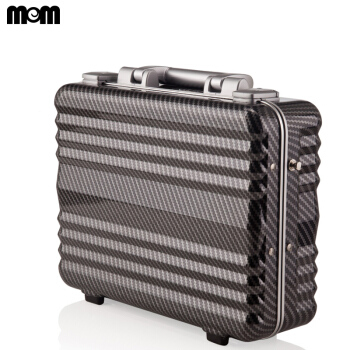shoutibox: (52, 66, 322, 348)
